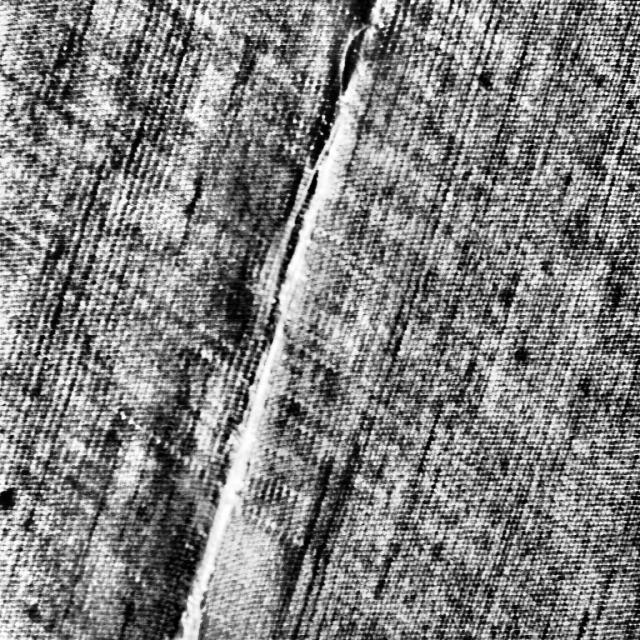gray stitch: (164, 0, 390, 632)
